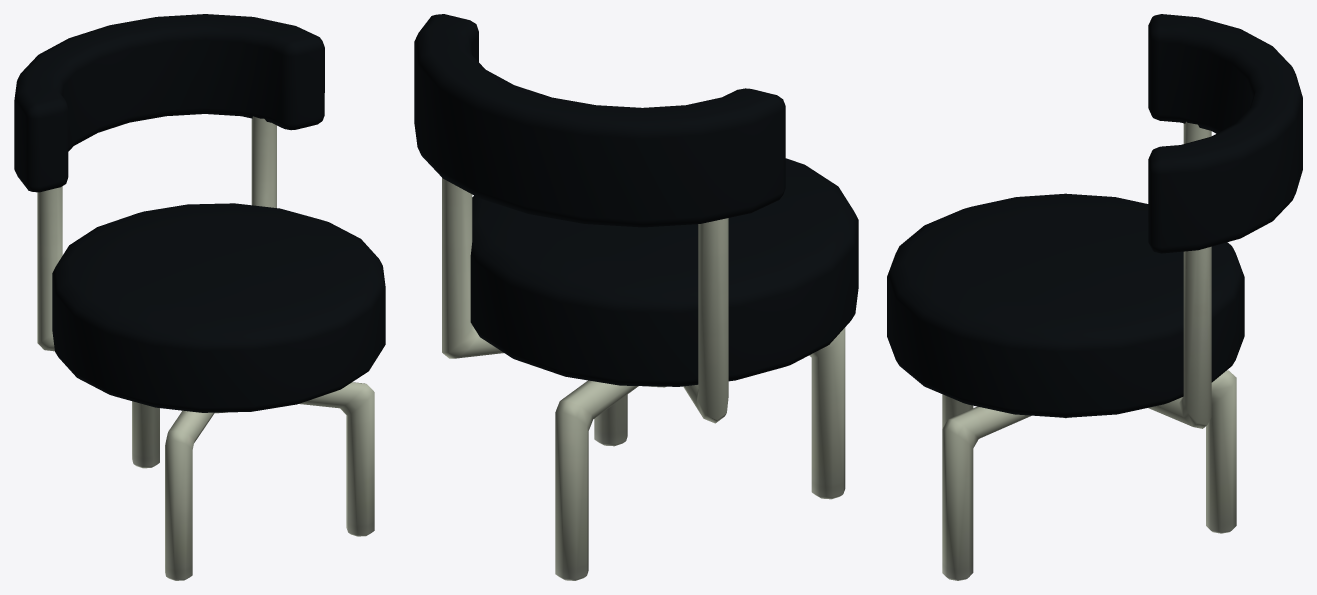
3 views of the same model, side by side, from view 1: azimuth 30°, elevation 25°; view 2: azimuth 150°, elevation 25°; view 3: azimuth 270°, elevation 25° (orthographic). The views are drawn at different scales.
Size of the model in its own units: 6.63 by 8.84 by 7.54.
Materials: 2 (2 with a texture image).
